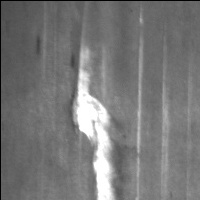scratches: (71, 41, 120, 200), (157, 37, 174, 200), (133, 36, 146, 200)
